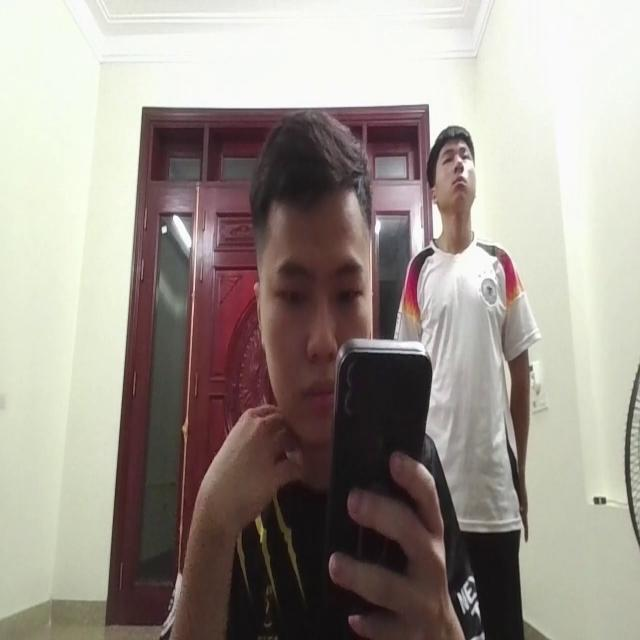extra_person: (409, 130, 529, 538)
phone: (322, 331, 430, 597)
student: (176, 106, 433, 640)
